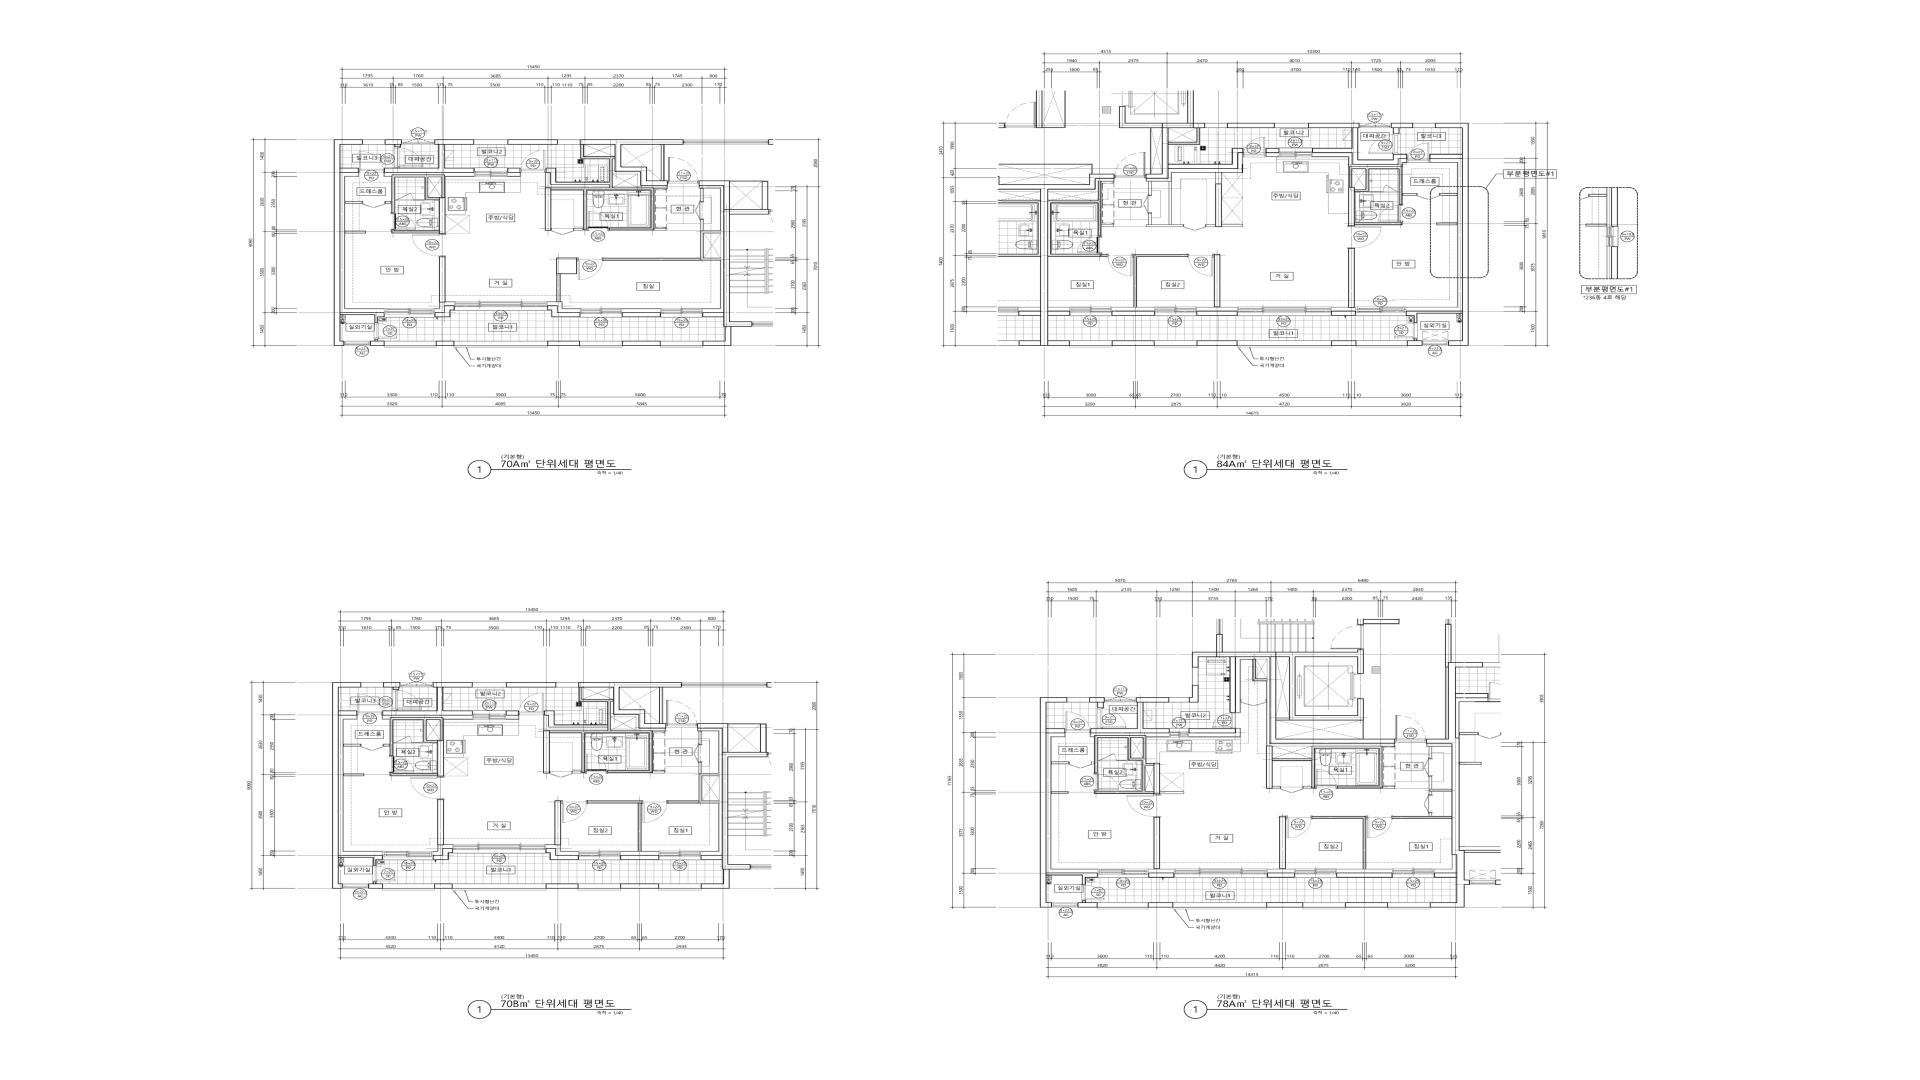door: (666, 700, 698, 728), (1395, 715, 1427, 741), (1114, 152, 1146, 178), (667, 157, 699, 183), (1331, 625, 1364, 650), (1127, 794, 1160, 818), (413, 233, 446, 257), (410, 777, 444, 799), (1349, 225, 1382, 248), (1369, 133, 1399, 154), (393, 690, 422, 711), (1366, 816, 1393, 839), (560, 800, 587, 823), (518, 692, 545, 715), (520, 150, 546, 173), (1097, 708, 1126, 728), (394, 148, 423, 167), (642, 800, 667, 823), (357, 694, 382, 716), (1064, 712, 1091, 733), (1286, 816, 1312, 837), (1188, 255, 1215, 276), (1108, 255, 1134, 276), (576, 258, 603, 280), (359, 152, 384, 173), (1378, 204, 1403, 223), (1315, 769, 1337, 789), (1407, 142, 1429, 162), (1244, 137, 1266, 157), (587, 211, 609, 231), (1077, 236, 1101, 255), (585, 754, 608, 773), (1095, 774, 1118, 791), (390, 756, 414, 773), (392, 214, 415, 229), (1083, 885, 1105, 901), (373, 866, 396, 882), (1395, 323, 1418, 339), (375, 323, 397, 339), (1213, 713, 1236, 728), (695, 200, 704, 220), (1241, 699, 1267, 705), (360, 744, 384, 750), (1183, 224, 1207, 231), (1416, 193, 1440, 199), (1069, 762, 1092, 769), (1280, 786, 1303, 793), (550, 771, 572, 778), (551, 228, 574, 235), (363, 202, 385, 208), (1098, 753, 1117, 761), (1424, 758, 1432, 777), (393, 736, 411, 744), (1143, 195, 1151, 214), (1424, 795, 1432, 812), (694, 745, 702, 762), (396, 193, 413, 200), (1383, 185, 1399, 193)
wall: (1393, 624, 1465, 907), (1192, 650, 1395, 744), (1236, 657, 1395, 746), (1406, 123, 1469, 345), (543, 682, 682, 774), (1040, 174, 1114, 345), (1039, 698, 1098, 907), (699, 181, 769, 345), (698, 724, 767, 889), (332, 682, 382, 889), (334, 140, 384, 345), (545, 145, 654, 231), (1120, 107, 1244, 179), (1406, 158, 1462, 311), (1146, 153, 1244, 227), (1047, 733, 1098, 873), (339, 716, 382, 856), (340, 173, 384, 313), (1266, 746, 1382, 789), (603, 220, 720, 261), (580, 140, 683, 186), (1308, 123, 1407, 165), (1095, 736, 1160, 794), (1349, 166, 1403, 227), (390, 717, 444, 777), (699, 186, 724, 313), (382, 682, 472, 716), (698, 729, 721, 856), (384, 140, 475, 173), (1312, 816, 1366, 869), (1134, 255, 1188, 307), (587, 800, 642, 852), (1091, 698, 1170, 733), (392, 174, 444, 214), (611, 702, 666, 731), (613, 160, 667, 187), (1312, 153, 1407, 166), (543, 715, 608, 731), (1048, 179, 1114, 191), (1189, 728, 1241, 737), (1168, 128, 1197, 142), (1435, 855, 1457, 873), (1429, 777, 1452, 795), (702, 777, 719, 800), (546, 844, 579, 856), (546, 848, 579, 860), (1427, 744, 1452, 758), (384, 173, 475, 177), (382, 716, 472, 720), (1279, 816, 1286, 869), (547, 306, 580, 316), (547, 302, 580, 313), (1154, 818, 1160, 869), (556, 257, 576, 274), (1091, 733, 1170, 737), (1349, 248, 1354, 307), (1253, 659, 1267, 680), (1352, 169, 1366, 190), (438, 799, 444, 845), (554, 800, 560, 845), (439, 257, 446, 302), (1337, 873, 1393, 878), (1216, 183, 1222, 227), (426, 720, 440, 740), (1215, 255, 1220, 307), (1358, 618, 1399, 625), (508, 140, 558, 145), (506, 682, 556, 687), (1228, 123, 1275, 128), (1189, 728, 1236, 733), (1391, 123, 1414, 133), (439, 198, 446, 233), (433, 844, 452, 856), (433, 848, 452, 860), (1112, 311, 1155, 316), (1336, 869, 1393, 873), (1345, 902, 1387, 907), (1112, 340, 1154, 345), (1196, 311, 1237, 316), (435, 306, 455, 316), (435, 302, 455, 313), (1197, 340, 1237, 345), (620, 851, 659, 856), (621, 884, 658, 889), (1267, 902, 1303, 907), (392, 229, 439, 233), (1112, 307, 1155, 311), (1089, 698, 1105, 708), (546, 884, 578, 889), (1196, 307, 1237, 311), (1189, 686, 1199, 703), (620, 856, 659, 860), (622, 309, 661, 313), (622, 342, 661, 345), (622, 313, 661, 316), (1267, 873, 1295, 878), (661, 145, 665, 181), (1149, 873, 1175, 878), (385, 140, 402, 148), (384, 682, 401, 690), (1077, 901, 1097, 907), (1149, 902, 1172, 907), (1332, 311, 1356, 316), (547, 342, 579, 345), (1332, 340, 1356, 345), (1267, 869, 1295, 873), (508, 167, 520, 177), (556, 274, 560, 302), (1149, 869, 1175, 873), (1407, 339, 1423, 345), (434, 884, 452, 889), (659, 687, 662, 724), (368, 882, 382, 889), (1447, 667, 1448, 738), (1332, 307, 1356, 311), (371, 339, 384, 345), (1048, 307, 1069, 311), (667, 800, 699, 803), (1266, 148, 1279, 153), (505, 711, 518, 716), (436, 342, 454, 345), (1160, 791, 1184, 794), (1150, 128, 1151, 174), (1222, 224, 1244, 227), (1266, 153, 1279, 157), (345, 231, 365, 233), (700, 189, 704, 202), (505, 716, 518, 720), (345, 202, 363, 204), (731, 181, 762, 182), (1382, 786, 1395, 789), (1276, 717, 1290, 720), (1101, 224, 1114, 227), (653, 770, 665, 773), (654, 228, 666, 231), (574, 228, 584, 231), (1303, 786, 1312, 789), (1207, 224, 1216, 227), (1273, 786, 1280, 789), (1370, 191, 1383, 193), (1403, 194, 1416, 195), (385, 202, 392, 204), (384, 744, 390, 746), (413, 199, 425, 200), (1117, 760, 1127, 761), (411, 742, 422, 744), (572, 771, 582, 773), (1429, 812, 1432, 816), (1092, 762, 1095, 765), (728, 724, 761, 724)
window: (1237, 307, 1332, 316), (452, 844, 546, 853), (1175, 869, 1267, 878), (455, 302, 547, 310), (1172, 903, 1267, 910), (1237, 340, 1332, 347), (454, 342, 547, 348), (452, 884, 546, 890), (384, 309, 435, 318), (1098, 869, 1149, 878), (1356, 307, 1406, 316), (382, 852, 433, 860), (1393, 869, 1435, 878), (1295, 869, 1337, 878), (1069, 307, 1112, 316), (661, 309, 703, 318), (580, 309, 622, 318), (1155, 307, 1196, 316), (659, 851, 700, 860), (579, 851, 620, 860), (382, 884, 435, 890), (384, 342, 436, 348), (1387, 902, 1431, 910), (1097, 903, 1149, 910), (1356, 340, 1407, 347), (1303, 902, 1345, 910), (472, 711, 506, 720), (1279, 148, 1312, 157), (475, 167, 508, 177), (1154, 340, 1197, 347), (579, 342, 622, 348), (578, 884, 621, 890), (658, 884, 702, 890), (1069, 340, 1112, 347), (661, 342, 703, 348), (402, 138, 434, 145), (1105, 696, 1135, 703), (1170, 728, 1189, 737), (473, 140, 508, 145), (472, 682, 506, 687), (1275, 123, 1308, 128), (400, 682, 433, 687), (1360, 123, 1391, 128), (1051, 902, 1077, 907), (343, 884, 368, 889), (1192, 667, 1199, 686), (1067, 698, 1089, 703), (361, 682, 384, 687), (1205, 123, 1228, 128), (363, 140, 385, 145), (558, 140, 580, 145), (556, 682, 579, 687), (1414, 123, 1435, 128), (1170, 698, 1189, 703), (344, 342, 371, 345), (1423, 342, 1448, 345)
